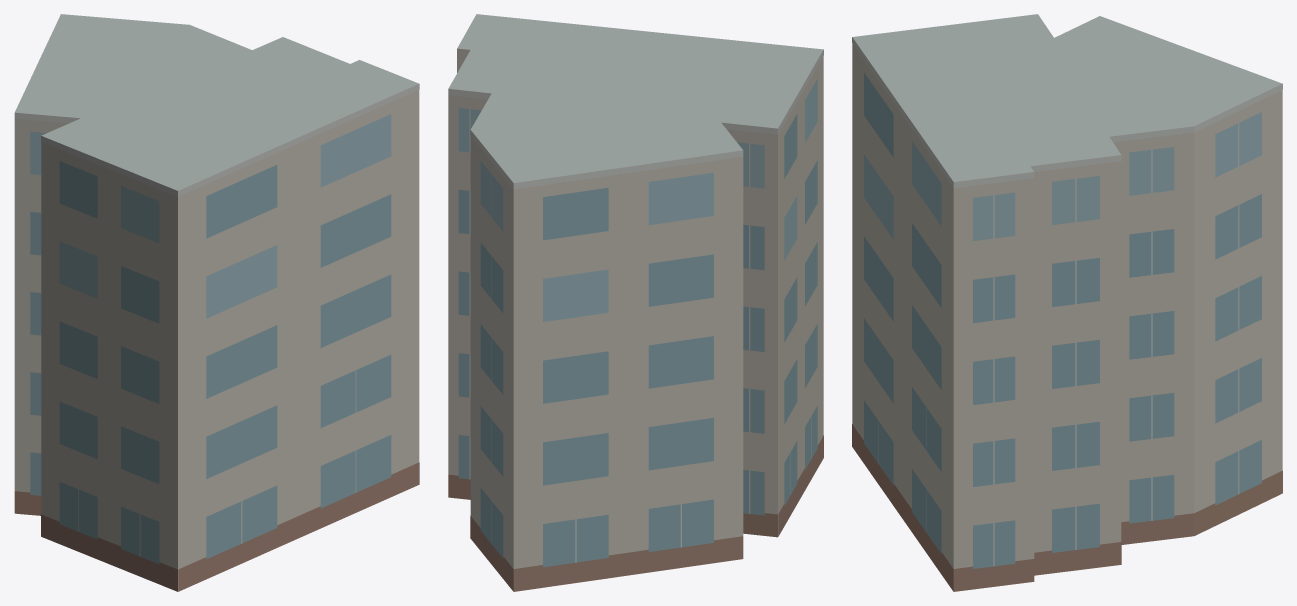
File: survey-upis-32674423.glb
3 views of the same model, side by side, from view 1: azimuth 30°, elevation 25°; view 2: azimuth 150°, elevation 25°; view 3: azimuth 270°, elevation 25° (orthographic). The views are drawn at different scales.
Parts seen in each view (by area): view 1: survey-upis-32674423.tmp; view 2: survey-upis-32674423.tmp; view 3: survey-upis-32674423.tmp.
Boxes of the visible parts, x1,y1,x2,y2 form: survey-upis-32674423.tmp: (14,14,419,591); survey-upis-32674423.tmp: (448,14,823,591); survey-upis-32674423.tmp: (852,14,1282,591).
Bounding box in the file's own units: 14.26 × 16.2 × 15.43.
